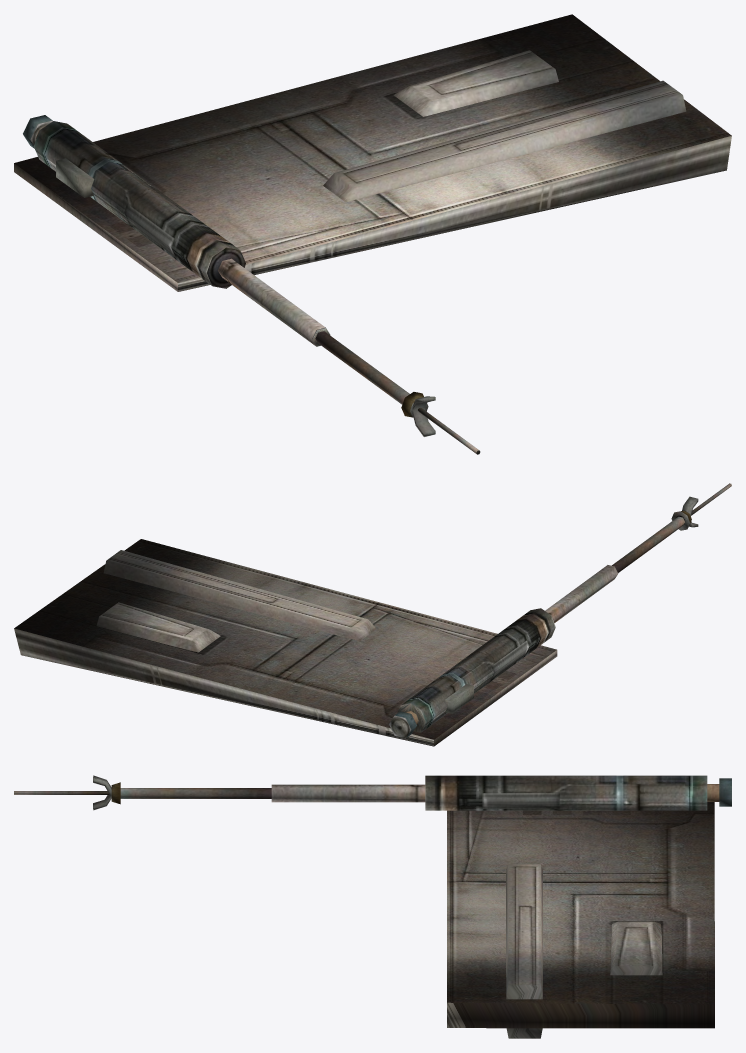
The model's file is z95_part_wing_r.dae.
3 renders of one model, top to bottom at view 1: azimuth 30°, elevation 25°; view 2: azimuth 150°, elevation 25°; view 3: azimuth 270°, elevation 25°, orthographic. The views are drawn at different scales.
Visible parts, largest first — view 1: x_wing03; view 2: x_wing03; view 3: x_wing03.
Boxes of the visible parts, box(x1,y1,x2,y2) form: x_wing03: box(14, 14, 731, 454); x_wing03: box(14, 483, 731, 746); x_wing03: box(14, 775, 731, 1038).
Bounding box in the file's own units: 5.17 × 0.654 × 7.06.
1 material, 1 textured.
